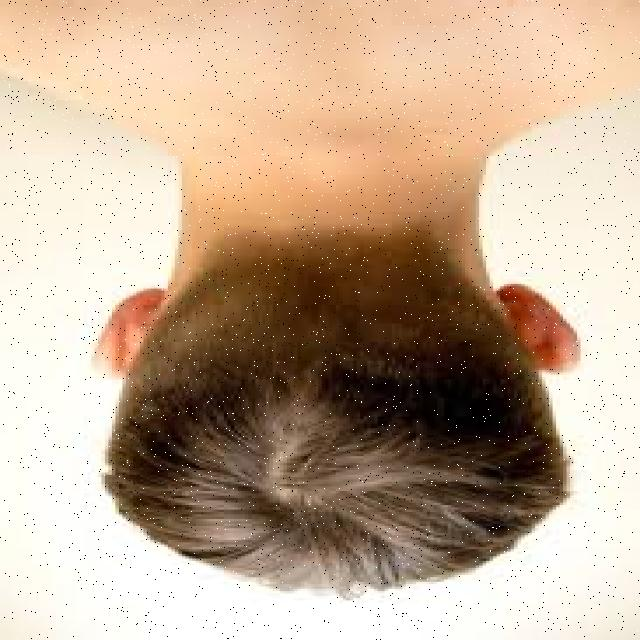Non_Helmet: (59, 240, 598, 614)
